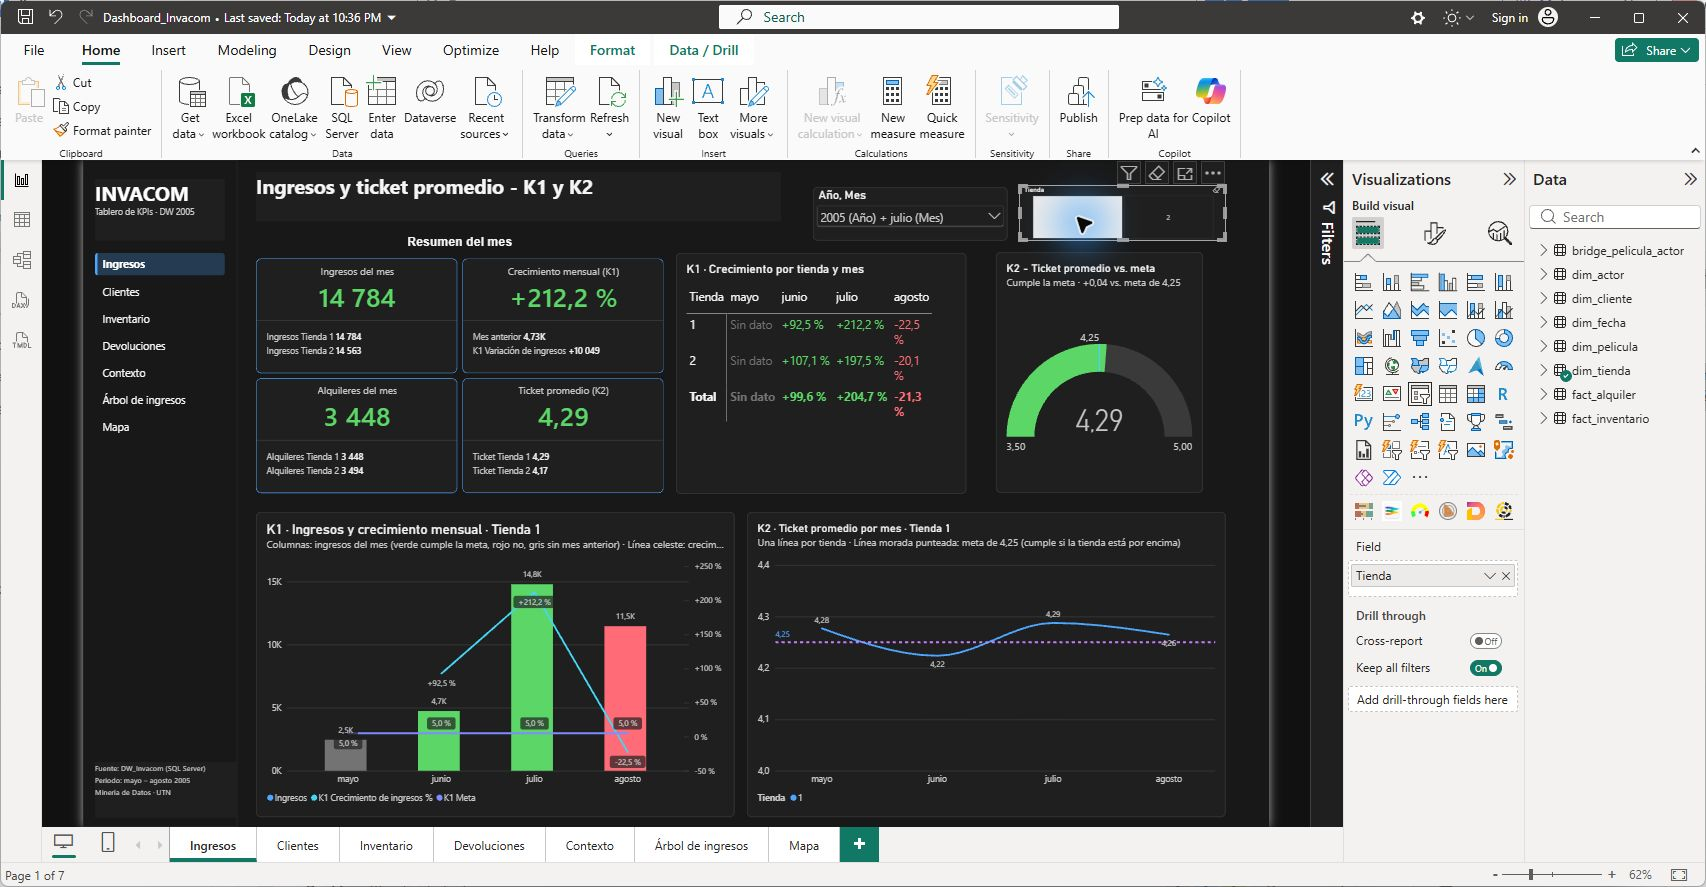

This screenshot's page, from the dashboard's own definition file:
{"tool":"powerbi","page":{"name":"Ingresos ","canvas":[1920,1080],"ordinal":1},"visuals":[{"type":"shape","box":[0,0,250,1080],"z":0},{"type":"cardVisual","title":"Resumen del mes","fields":{"Data":["fact_alquiler.Ingresos Texto","fact_alquiler.K1 Texto","fact_alquiler.Alquileres Texto","fact_alquiler.K2 Texto"]},"box":[280,121,660,419],"z":1000},{"type":"slicer","fields":{"Values":["dim_fecha.anio","dim_fecha.nombre_mes"]},"box":[1180,22,315,86.7],"z":2000},{"type":"lineClusteredColumnComboChart","fields":{"Category":["dim_fecha.nombre_mes"],"Y":["fact_alquiler.Ingresos"],"Y2":["fact_alquiler.K1 Crecimiento de ingresos %","fact_alquiler.K1 Meta"]},"box":[280,570,775,494],"z":3000},{"type":"pivotTable","title":"K1 · Crecimiento por tienda y mes","fields":{"Columns":["dim_fecha.nombre_mes"],"Rows":["dim_tienda.store_id"],"Values":["fact_alquiler.K1 Texto"]},"box":[960,150,470,390],"z":4000},{"type":"slicer","fields":{"Values":["dim_tienda.store_id"]},"box":[1530,22,335,90],"z":5000},{"type":"pageNavigator","box":[20,150,210,300],"z":6000},{"type":"textbox","box":[20,30,210,100],"z":6001},{"type":"textbox","box":[280,20,850,80],"z":6002},{"type":"gauge","title":"K2 - Ticket promedio vs. meta","fields":{"MaxValue":["fact_alquiler.K2 Medidor máximo"],"MinValue":["fact_alquiler.K2 Medidor mínimo"],"TargetValue":["fact_alquiler.K2 Meta"],"Y":["fact_alquiler.K2 Ticket promedio"]},"box":[1530,150,335,390],"z":6003},{"type":"lineClusteredColumnComboChart","fields":{"Category":["dim_fecha.nombre_mes"],"Y":["fact_alquiler.K2 Ticket promedio"],"Y2":["fact_alquiler.K2 Meta"]},"box":[1075,570,775,494],"z":6004}]}

Visuals, with their boxes on the page's 1920x1080 design canvas (x1, y1, x2, y2). These are canvas units, not pixel positions in the 1706x887 screenshot, which may show the page scaled, cropped or inside an application window:
shape: left=0, top=0, right=250, bottom=1080
"Resumen del mes" cardVisual: left=280, top=121, right=940, bottom=540
slicer - dim_fecha.anio x dim_fecha.nombre_mes: left=1180, top=22, right=1495, bottom=109
lineClusteredColumnComboChart - dim_fecha.nombre_mes x fact_alquiler.Ingresos: left=280, top=570, right=1055, bottom=1064
"K1 · Crecimiento por tienda y mes" pivotTable: left=960, top=150, right=1430, bottom=540
slicer - dim_tienda.store_id: left=1530, top=22, right=1865, bottom=112
pageNavigator: left=20, top=150, right=230, bottom=450
textbox: left=20, top=30, right=230, bottom=130
textbox: left=280, top=20, right=1130, bottom=100
"K2 - Ticket promedio vs. meta" gauge: left=1530, top=150, right=1865, bottom=540
lineClusteredColumnComboChart - dim_fecha.nombre_mes x fact_alquiler.K2 Ticket promedio: left=1075, top=570, right=1850, bottom=1064
